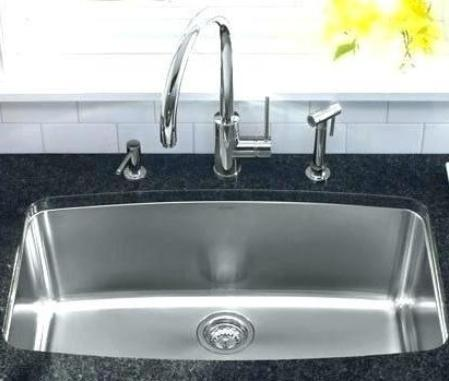Lavaplatos: (0, 19, 449, 362)
